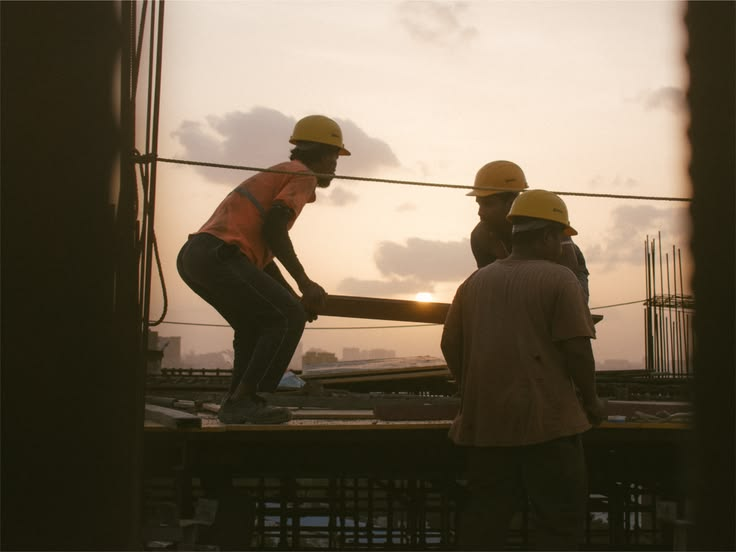hardhat: (509, 188, 585, 236), (283, 116, 350, 156), (466, 164, 531, 195)
no_safety_vest: (448, 260, 607, 445), (471, 208, 584, 272)
person: (437, 188, 617, 549), (175, 113, 355, 437), (446, 147, 603, 358)
safety_vest: (192, 163, 328, 276)
